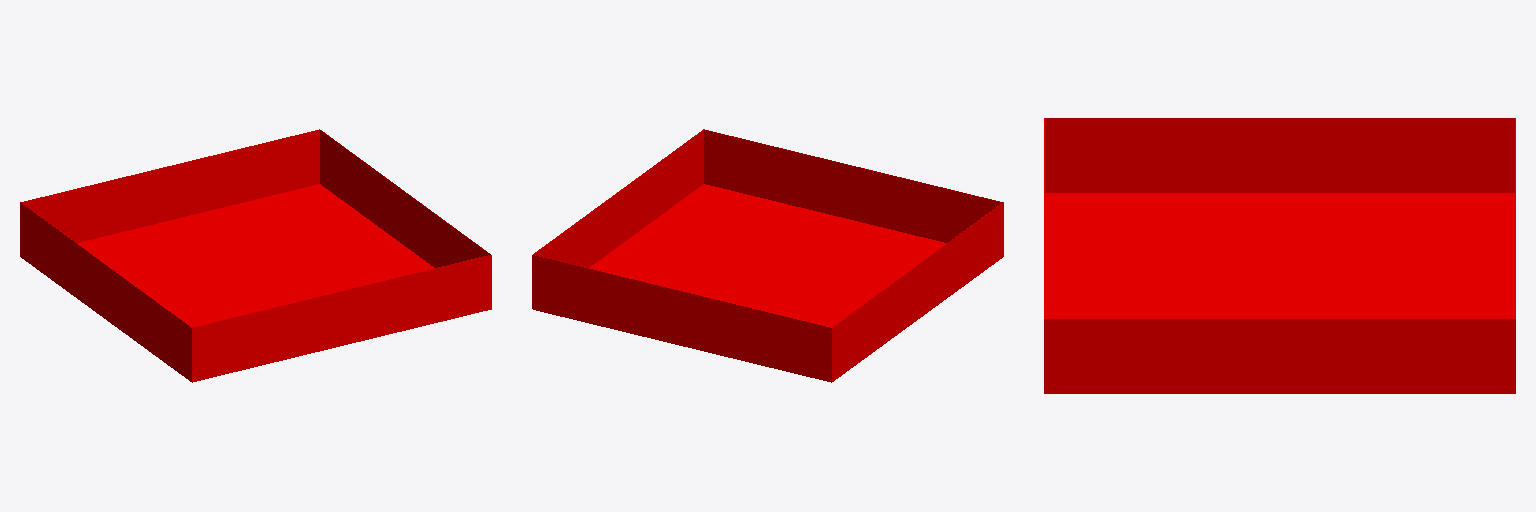
The robot description file, URDF, robot "square.urdf":
<?xml version="1.0" ?>
<robot name="square.urdf">
  <link name="baseLink">
    <contact>
      <lateral_friction value="1.0"/>
      <inertia_scaling value="3.0"/>
    </contact>
    <inertial>
      <origin rpy="0 0 0" xyz="0 0 0"/>
       <mass value=".1"/>
       <inertia ixx="1" ixy="0" ixz="0" iyy="1" iyz="0" izz="1"/>
    </inertial>
    <visual>
      <origin rpy="0 0 0" xyz="0 0 0"/>
      <geometry>
        <mesh filename="7.stl" scale="1 1 1" />
      </geometry>
      <material name="red">
        <color rgba="1 0 0 1"/>
      </material>
    </visual>
    <collision>
      <origin rpy="0 0 0" xyz="0 0 0"/>
      <geometry>
        <mesh filename="7_convex.obj" scale="1 1 1" />
      </geometry>
    </collision>
  </link>
</robot>

--- Facts derived from the render (not from the file) ---
Views: 3 orthographic renders of the robot side by side, from view 1: azimuth 30°, elevation 25°; view 2: azimuth 150°, elevation 25°; view 3: azimuth 270°, elevation 25°.
Model square.urdf with 1 links and 0 joints (none), rooted at baseLink, posed all joints at 0.
Links seen in each view (by area): view 1: baseLink; view 2: baseLink; view 3: baseLink.
Boxes of the visible links, <box> form: baseLink: <box>20,129,491,382</box>; baseLink: <box>532,129,1003,382</box>; baseLink: <box>1044,118,1515,393</box>.
Bounding box of the posed robot: 0.7589 × 0.7522 × 0.1326 m (x, y, z).
1 mesh visuals loaded from 1 distinct referenced files (1 binary STL).